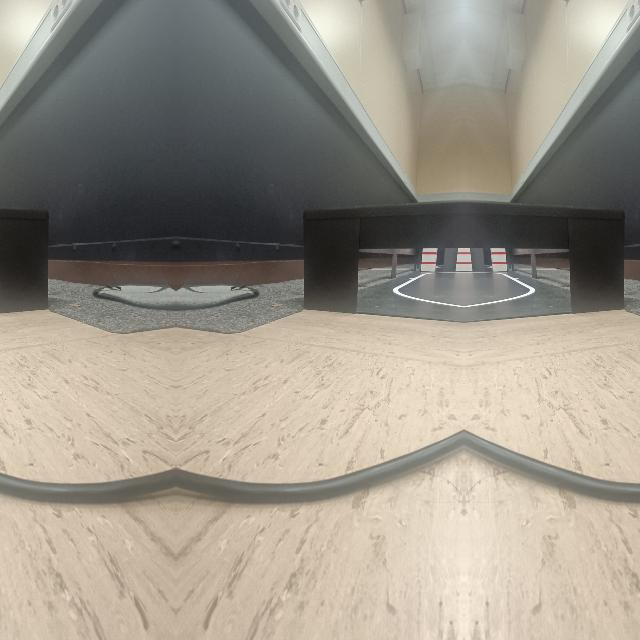obstacle: (174, 436, 463, 508), (300, 201, 464, 319), (464, 201, 628, 319), (463, 436, 640, 508), (0, 436, 175, 508), (0, 201, 50, 319)
